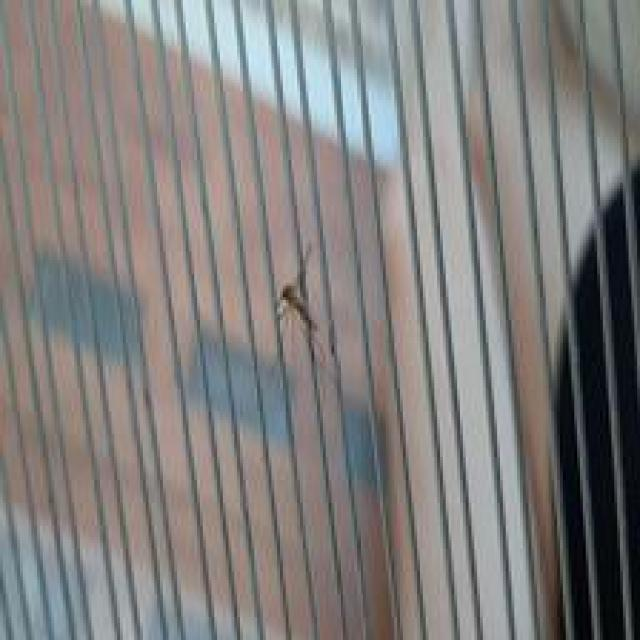Culex: (273, 242, 330, 367)
